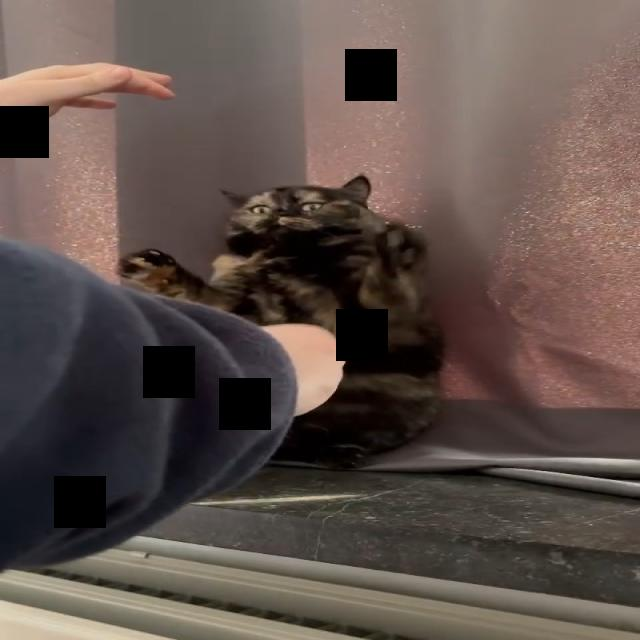authorized: (116, 175, 447, 470)
